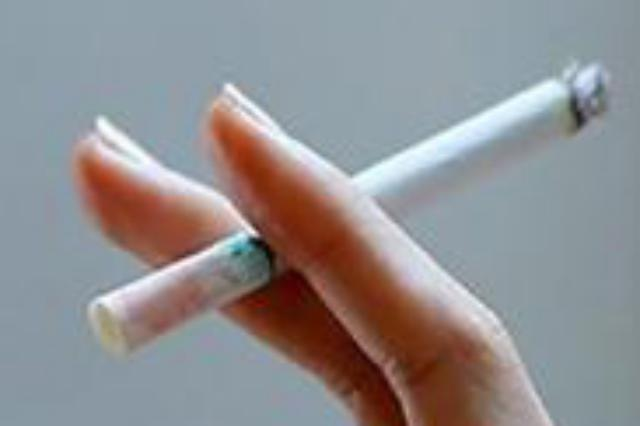Smoking: (82, 60, 614, 356)
